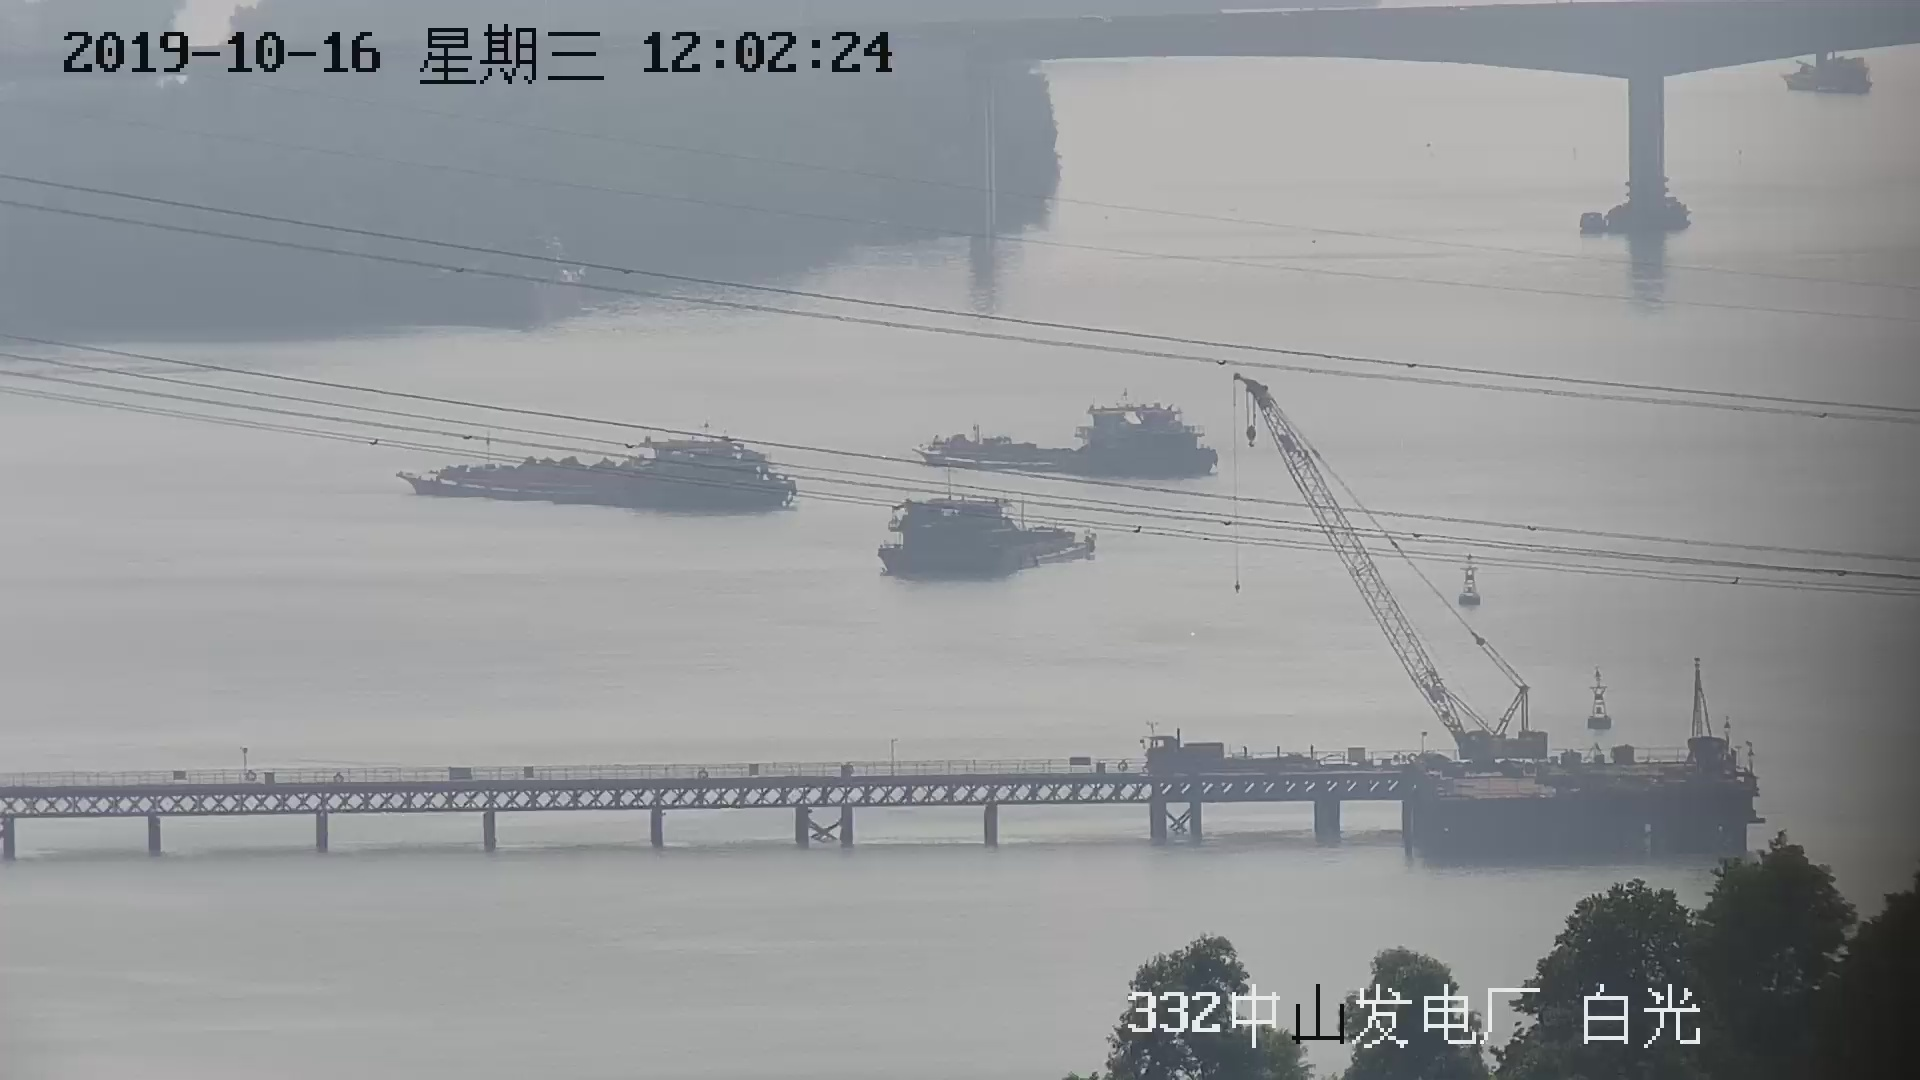ship: (400, 429, 796, 518), (911, 393, 1222, 479), (877, 493, 1096, 580)
